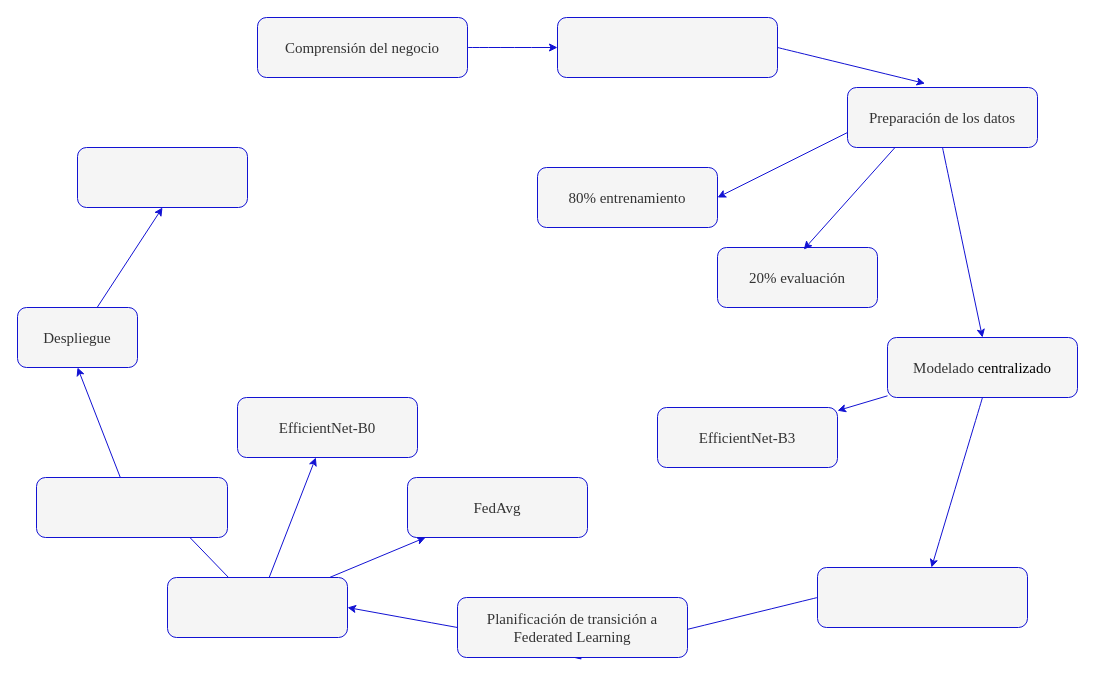
The diagram is 1095 pixels wide and 677 high, and some of its shapes have lost their labels. The shapes that lost their labels are listed below. From the top down, each one's centre as x and y in pixels, then its label:
the point at 667,47: Comprensión de l os datos
the point at 162,177: Mantenimiento
the point at 132,507: Evaluación federada
the point at 257,607: Modelado federado
the point at 922,597: Evaluación centralizada
